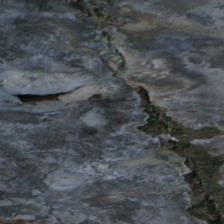Crack: (66, 44, 155, 177)
